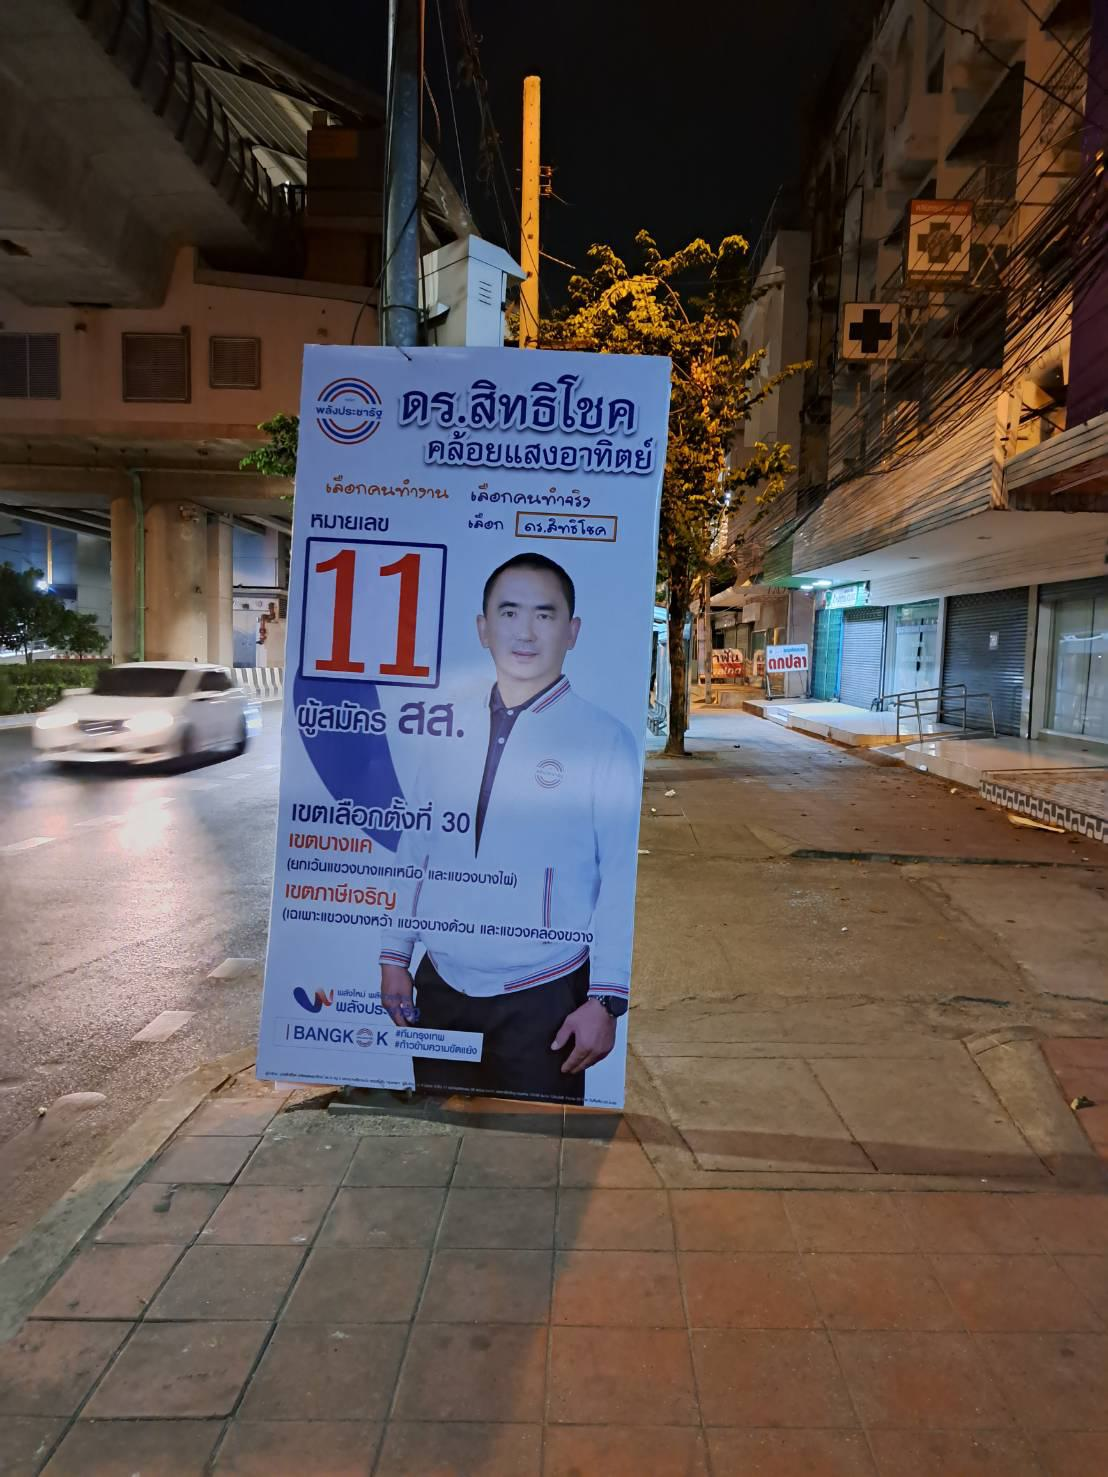Banner: (267, 356, 665, 1121)
